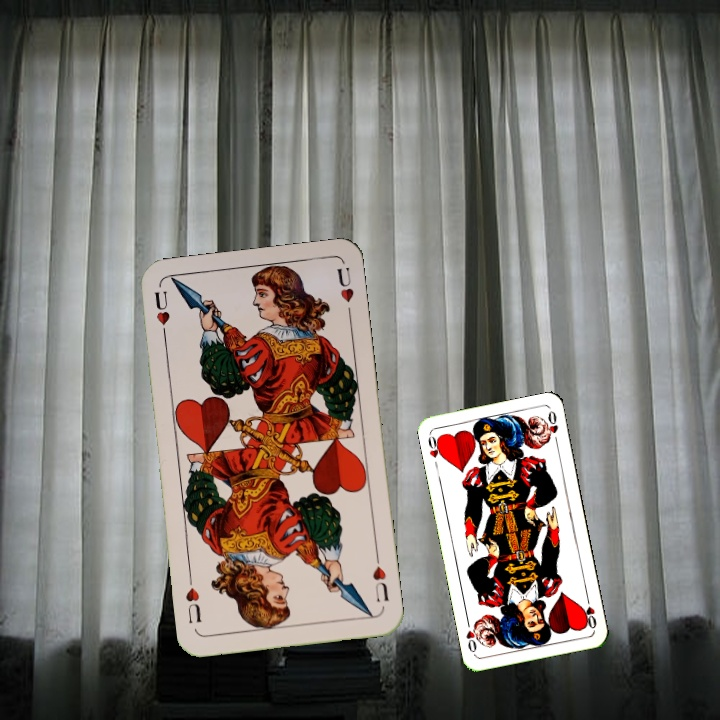HO: (579, 592, 599, 631), (424, 431, 446, 461)
HU: (368, 551, 392, 605), (150, 286, 172, 343)
